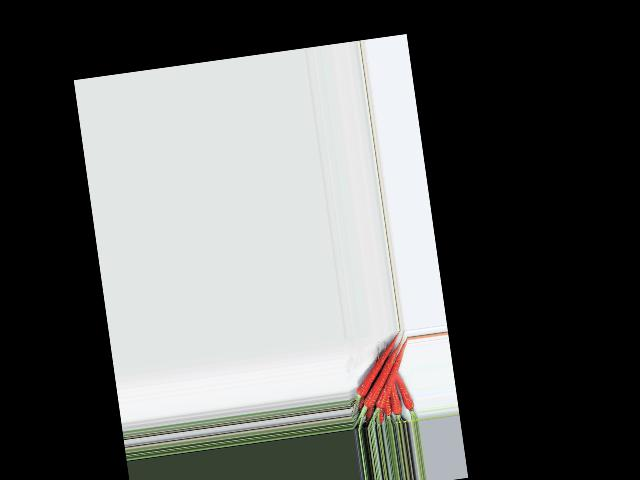carrot: (392, 369, 416, 412)
